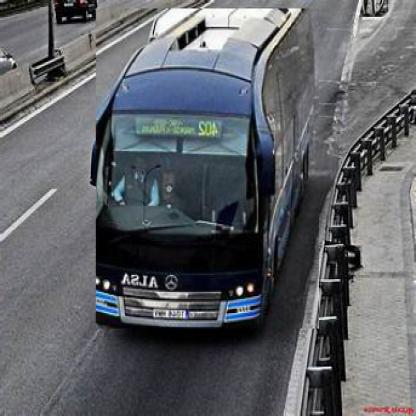bus: (96, 9, 320, 331)
